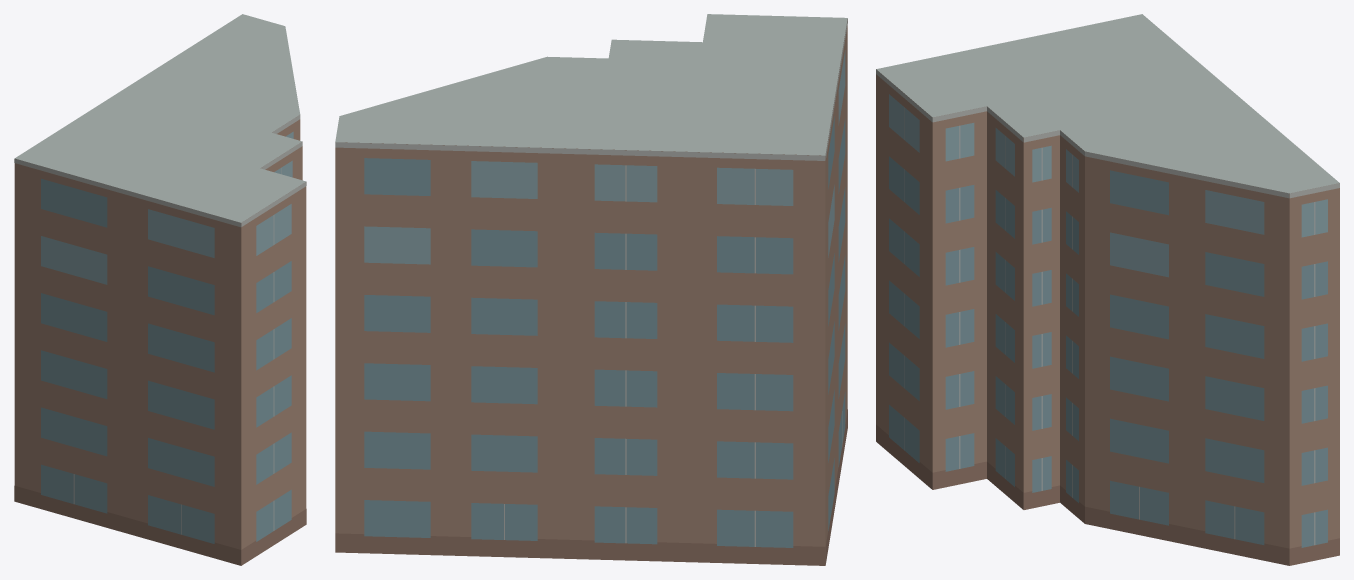
Rendered from survey-upis-33002836.glb.
The picture shows the model from 3 angles, left to right: view 1: azimuth 30°, elevation 25°; view 2: azimuth 150°, elevation 25°; view 3: azimuth 270°, elevation 25°; orthographic projection. The views are drawn at different scales.
Visible parts, largest first — view 1: survey-upis-33002836.tmp; view 2: survey-upis-33002836.tmp; view 3: survey-upis-33002836.tmp.
Part boxes in pixels (x1,y1,x2,y2): survey-upis-33002836.tmp: (14,14,306,565); survey-upis-33002836.tmp: (335,14,847,565); survey-upis-33002836.tmp: (876,14,1339,565).
Size of the model in its own units: 18.91 by 18.3 by 20.66.
